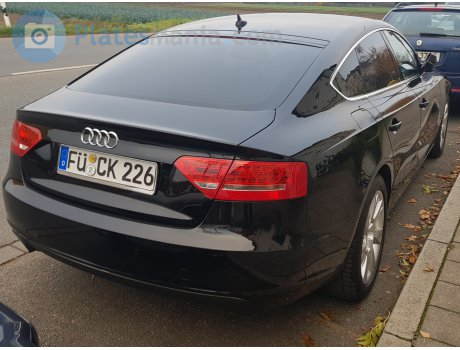License Plates: (74, 148, 149, 177)
